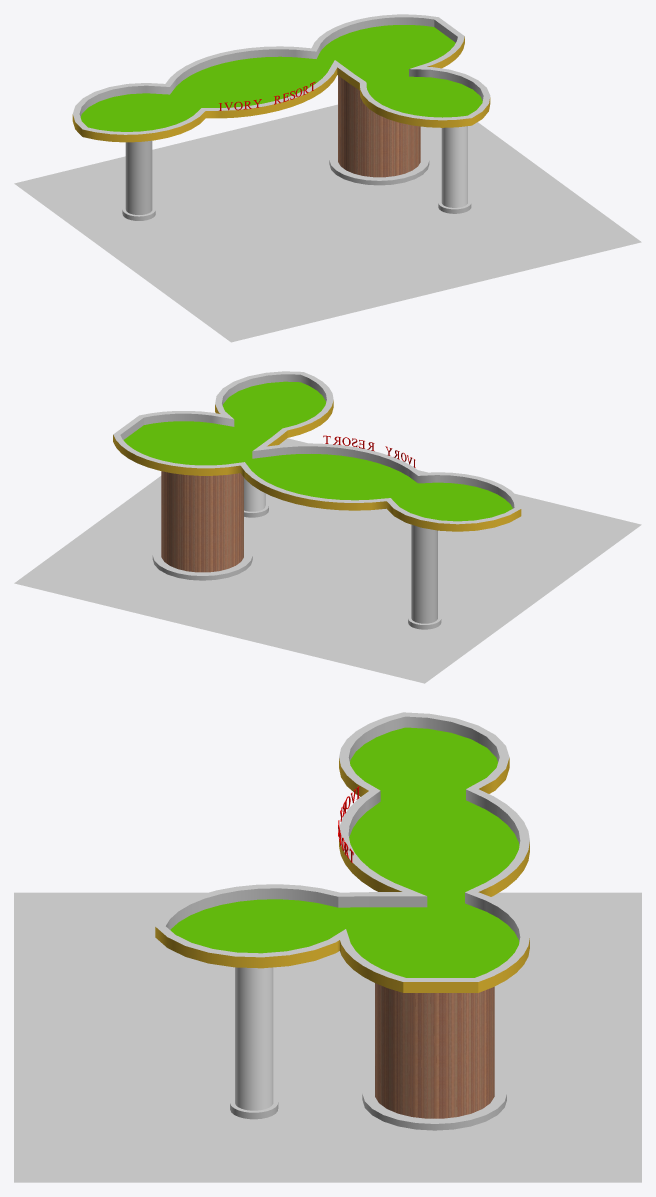
Rendered from cong.glb.
3 renders of one model, top to bottom at view 1: azimuth 30°, elevation 25°; view 2: azimuth 150°, elevation 25°; view 3: azimuth 270°, elevation 25°, orthographic. The views are drawn at different scales.
Parts seen in each view (by area): view 1: _(Loose Entity); view 2: _(Loose Entity); view 3: _(Loose Entity).
Boxes of the visible parts, <box> form: _(Loose Entity): <box>14,14,641,342</box>; _(Loose Entity): <box>14,371,641,683</box>; _(Loose Entity): <box>14,712,641,1182</box>.
Bounding box in the file's own units: 29.41 × 8.35 × 26.03.
6 materials, 1 textured.
